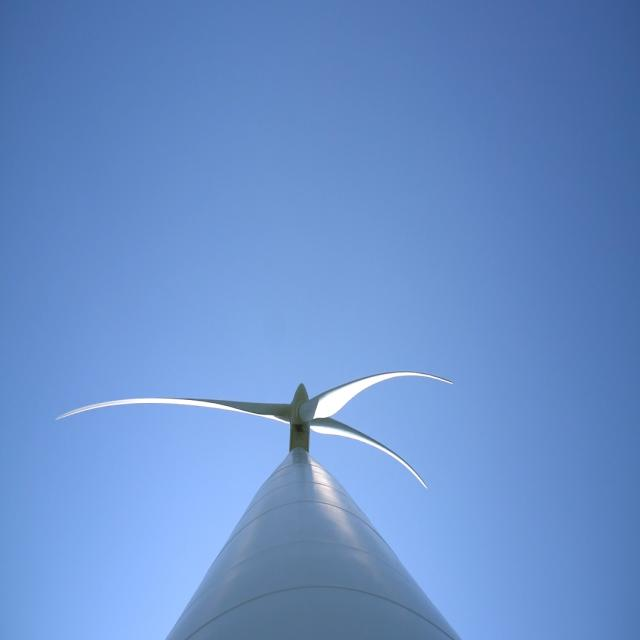blade 1: (312, 363, 498, 416)
blade 2: (344, 419, 435, 504)
blade 3: (36, 362, 286, 434)
